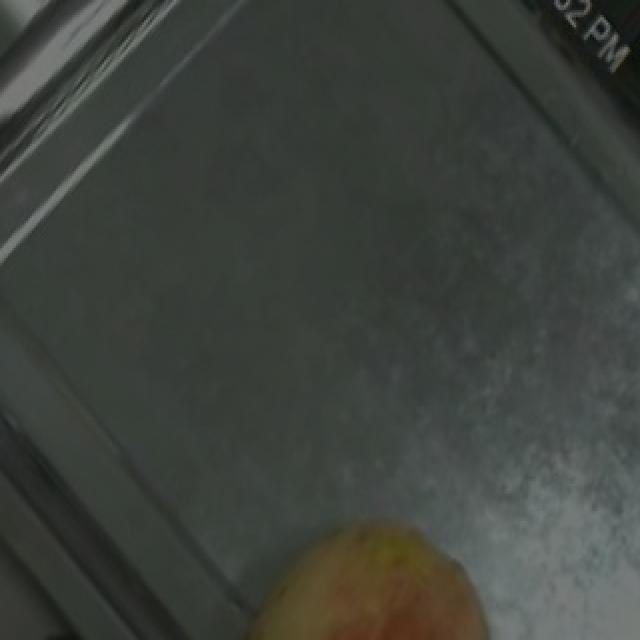Fruit: (214, 486, 518, 640)
